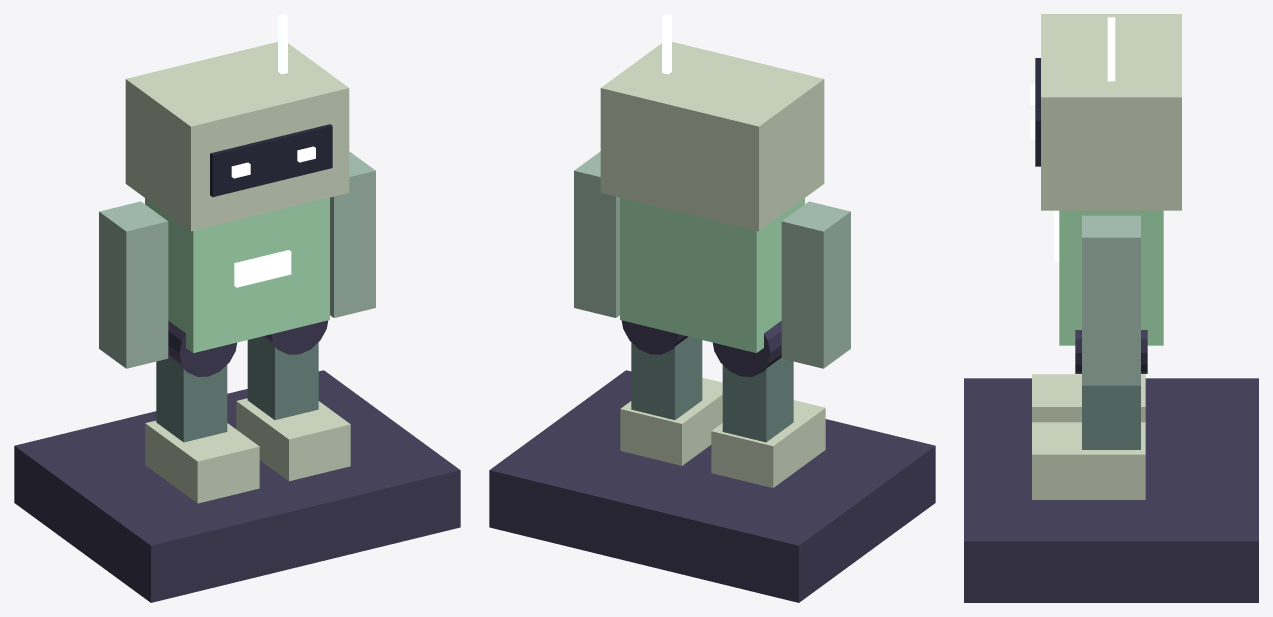
File: robotics-82b19e021a7e.glb
3 renders of one model, left to right at view 1: azimuth 30°, elevation 25°; view 2: azimuth 150°, elevation 25°; view 3: azimuth 270°, elevation 25°, orthographic. The views are drawn at different scales.
Visible parts, largest first — view 1: workbench, head, torso, arm, boot, arm.001, boot.001, visor, shin, shin.001, knee, chest_light (+2 smaller); view 2: workbench, head, torso, arm, arm.001, boot, boot.001, shin, shin.001, knee, knee.001, antenna; view 3: workbench, head, arm.001, boot.001, torso, shin.001, boot, visor, knee.001, antenna.
Part boxes in pixels (x1=…): workbench: x1=14, y1=370, x2=460, y2=602; head: x1=125, y1=42, x2=349, y2=231; torso: x1=145, y1=197, x2=329, y2=352; arm: x1=99, y1=201, x2=168, y2=368; boot: x1=145, y1=420, x2=259, y2=503; arm.001: x1=330, y1=151, x2=375, y2=317; boot.001: x1=236, y1=398, x2=350, y2=481; visor: x1=210, y1=124, x2=332, y2=197; shin: x1=156, y1=357, x2=227, y2=442; shin.001: x1=247, y1=336, x2=318, y2=419; knee: x1=168, y1=321, x2=236, y2=376; chest_light: x1=234, y1=250, x2=291, y2=287; workbench: x1=489, y1=370, x2=935, y2=602; head: x1=600, y1=42, x2=824, y2=231; torso: x1=620, y1=197, x2=804, y2=352; arm: x1=781, y1=201, x2=850, y2=368; arm.001: x1=574, y1=151, x2=619, y2=317; boot: x1=711, y1=400, x2=825, y2=487; boot.001: x1=620, y1=377, x2=722, y2=465; shin: x1=722, y1=357, x2=793, y2=442; shin.001: x1=631, y1=336, x2=702, y2=419; knee: x1=713, y1=321, x2=781, y2=376; knee.001: x1=621, y1=320, x2=687, y2=354; antenna: x1=662, y1=14, x2=671, y2=74; workbench: x1=964, y1=378, x2=1258, y2=602; head: x1=1041, y1=14, x2=1181, y2=210; arm.001: x1=1082, y1=215, x2=1140, y2=385; boot.001: x1=1032, y1=422, x2=1145, y2=499; torso: x1=1059, y1=210, x2=1163, y2=345; shin.001: x1=1082, y1=385, x2=1140, y2=449; boot: x1=1032, y1=374, x2=1145, y2=422; visor: x1=1035, y1=58, x2=1040, y2=166; knee.001: x1=1075, y1=330, x2=1147, y2=373; antenna: x1=1107, y1=17, x2=1115, y2=81.
Bounding box in the file's own units: 1.7 × 2.56 × 1.3.
